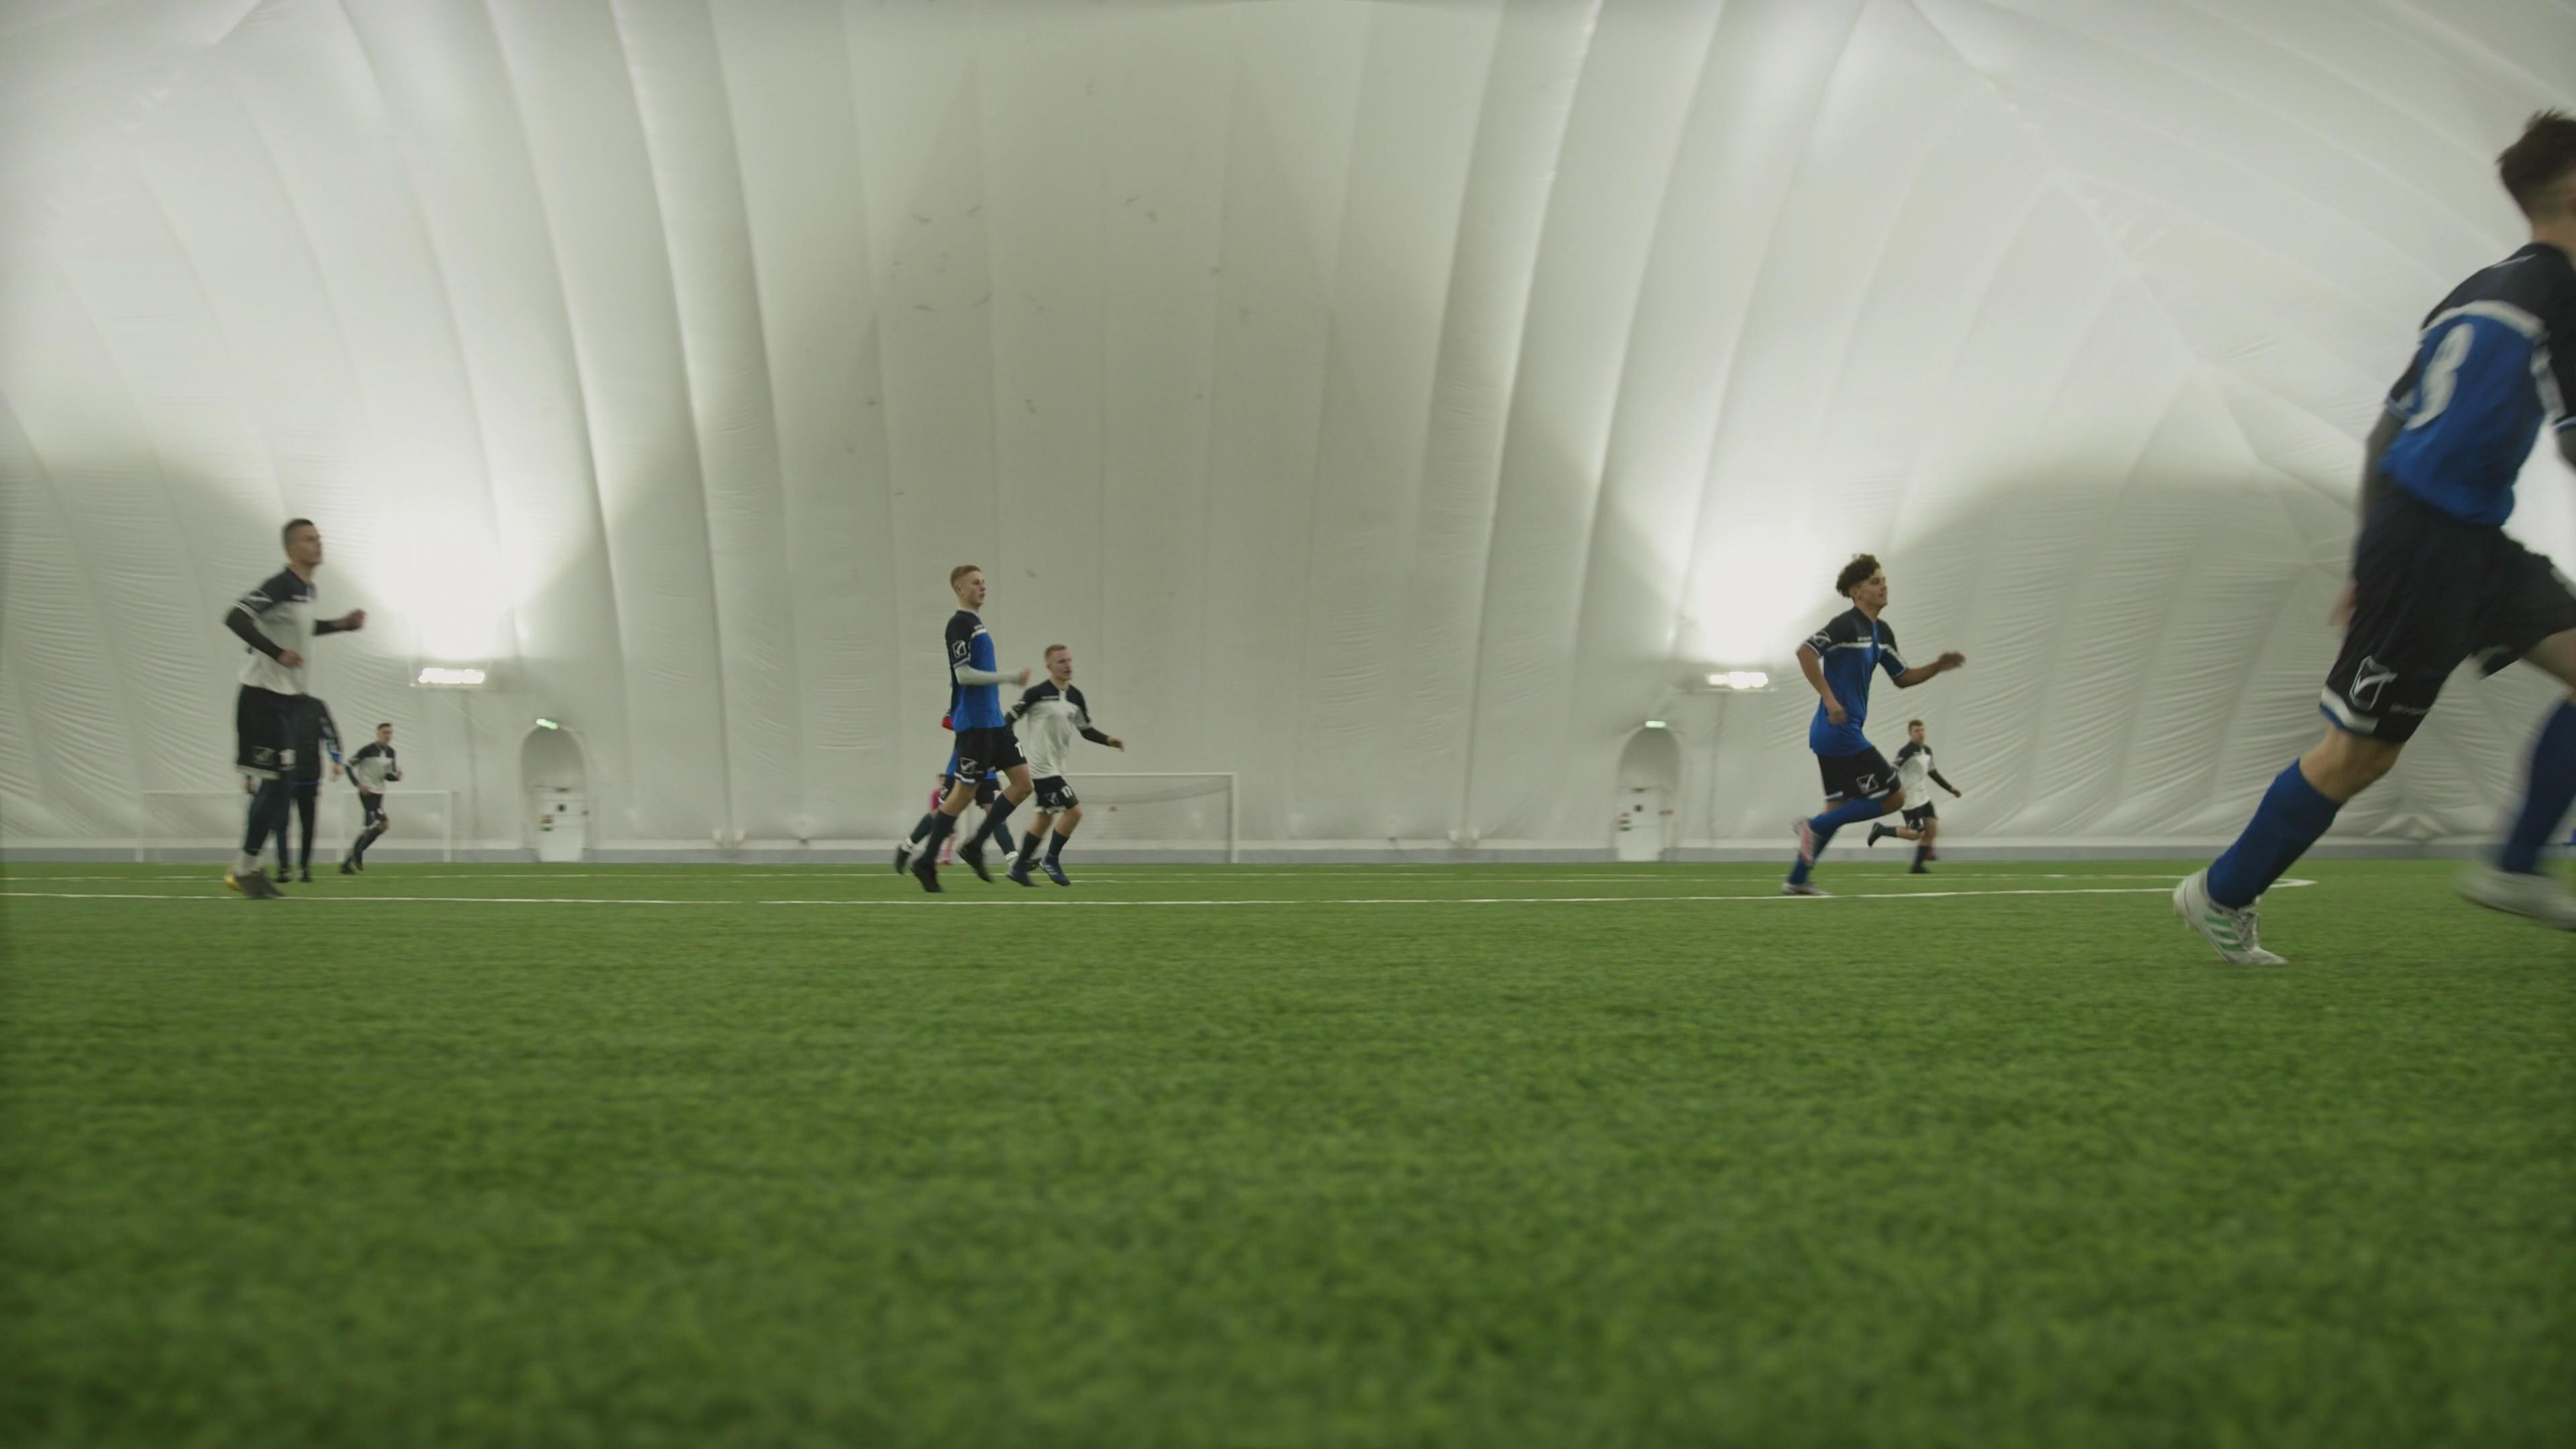other: (287, 679, 341, 890)
team1: (2173, 113, 2574, 971), (1782, 552, 1967, 893), (929, 564, 1021, 874)
team2: (225, 517, 361, 899), (998, 644, 1129, 888), (1874, 720, 1966, 879), (345, 715, 403, 888)
